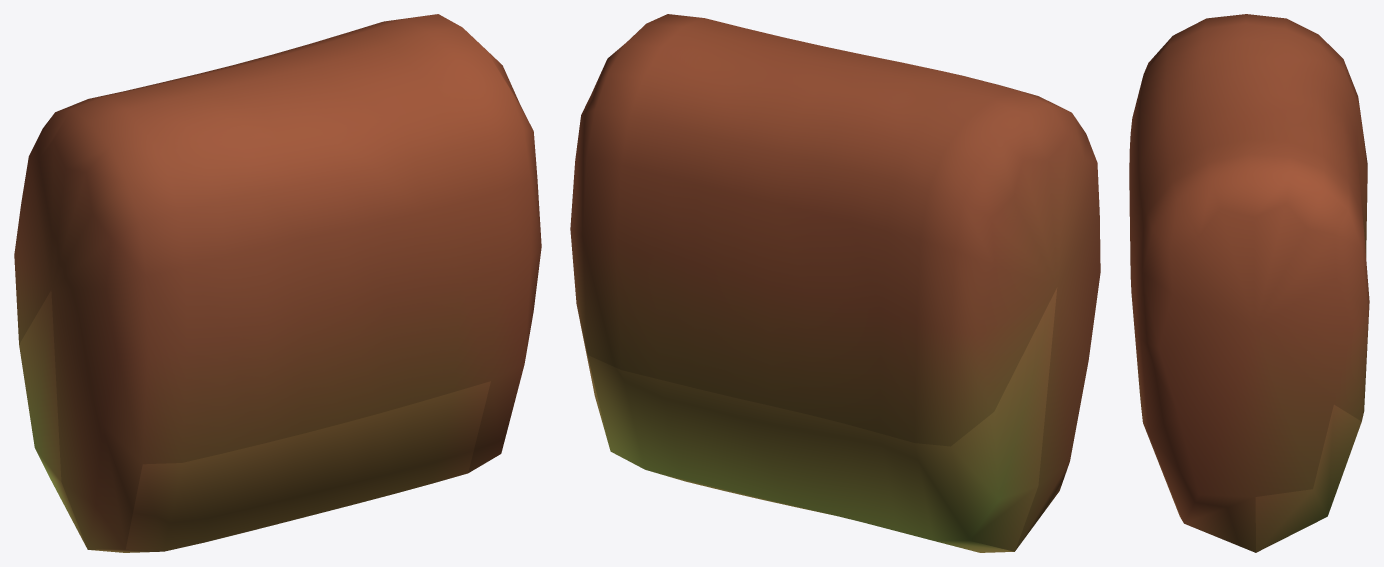
Rendered from mire_saucer_rim.glb.
The picture shows the model from 3 angles, left to right: view 1: azimuth 30°, elevation 25°; view 2: azimuth 150°, elevation 25°; view 3: azimuth 270°, elevation 25°; orthographic projection. The views are drawn at different scales.
Visible parts, largest first — view 1: mire_saucer_rim; view 2: mire_saucer_rim; view 3: mire_saucer_rim.
Part boxes in pixels (x1,y1,x2,y2): mire_saucer_rim: (14,14,541,552); mire_saucer_rim: (570,14,1100,552); mire_saucer_rim: (1129,14,1369,552).
Size of the model in its own units: 3.08 by 2.96 by 1.63.
